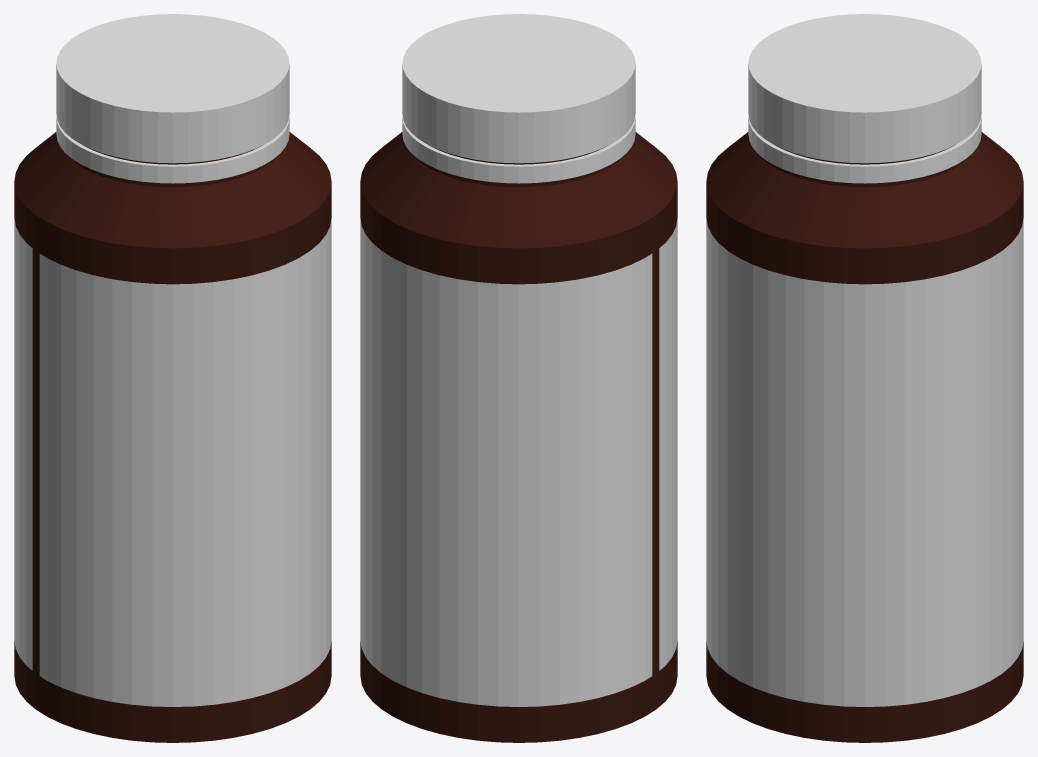
File: bottle-lfc.glb
The picture shows the model from 3 angles, left to right: view 1: azimuth 30°, elevation 25°; view 2: azimuth 150°, elevation 25°; view 3: azimuth 270°, elevation 25°; orthographic projection.
Visible parts, largest first — view 1: paper, bottle-lfc, lid, lid2; view 2: paper, bottle-lfc, lid, lid2; view 3: paper, bottle-lfc, lid, lid2.
Part boxes in pixels (x1,y1,x2,y2): paper: [14, 218, 331, 706]; bottle-lfc: [14, 132, 331, 742]; lid: [56, 14, 289, 163]; lid2: [56, 116, 289, 183]; paper: [360, 218, 677, 706]; bottle-lfc: [360, 132, 677, 742]; lid: [402, 14, 635, 163]; lid2: [402, 116, 635, 183]; paper: [706, 218, 1023, 706]; bottle-lfc: [706, 132, 1023, 742]; lid: [748, 14, 981, 163]; lid2: [748, 116, 981, 183].
Bounding box in the file's own units: 0.068 × 0.1449 × 0.068.
